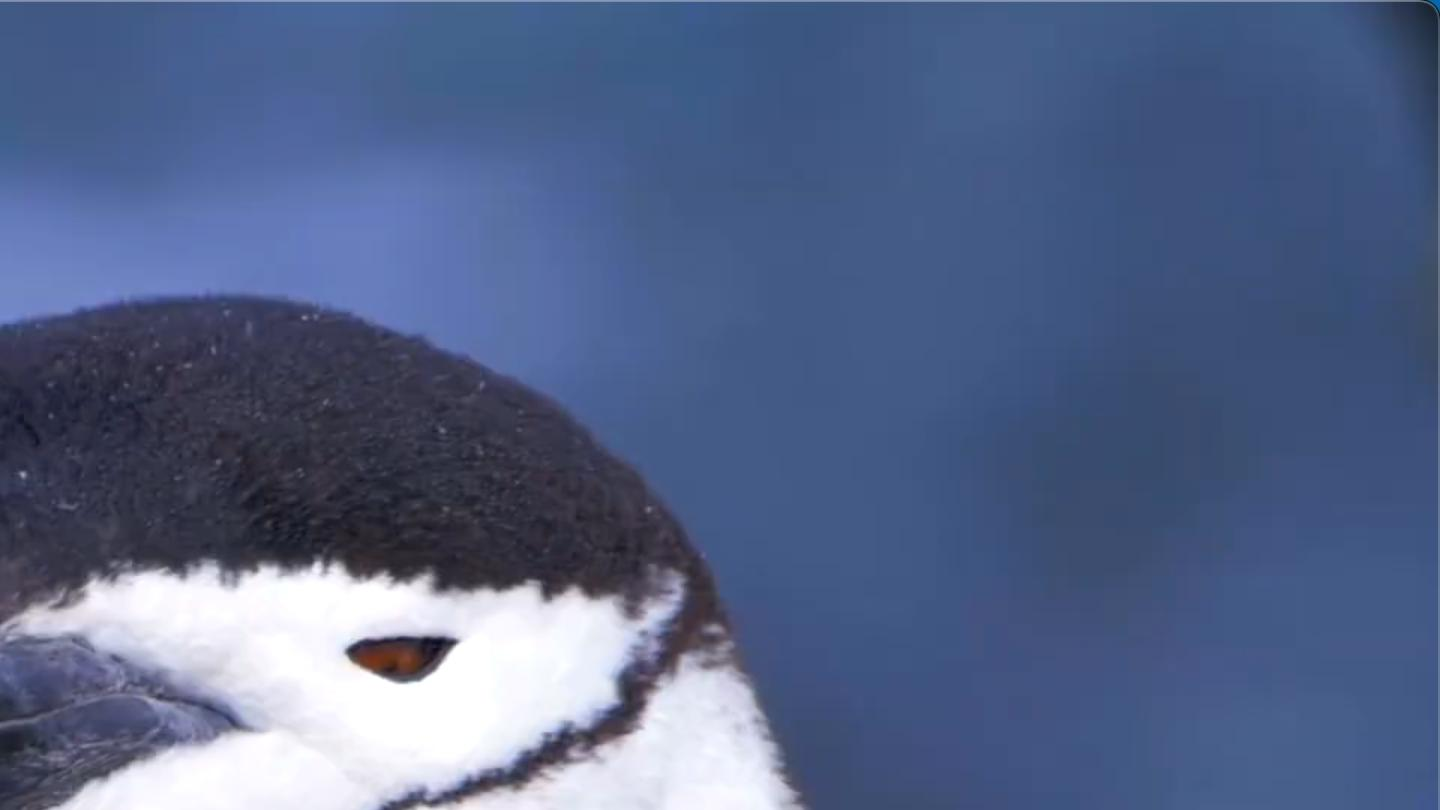Chinstrap Penguin: (0, 270, 1138, 810)
